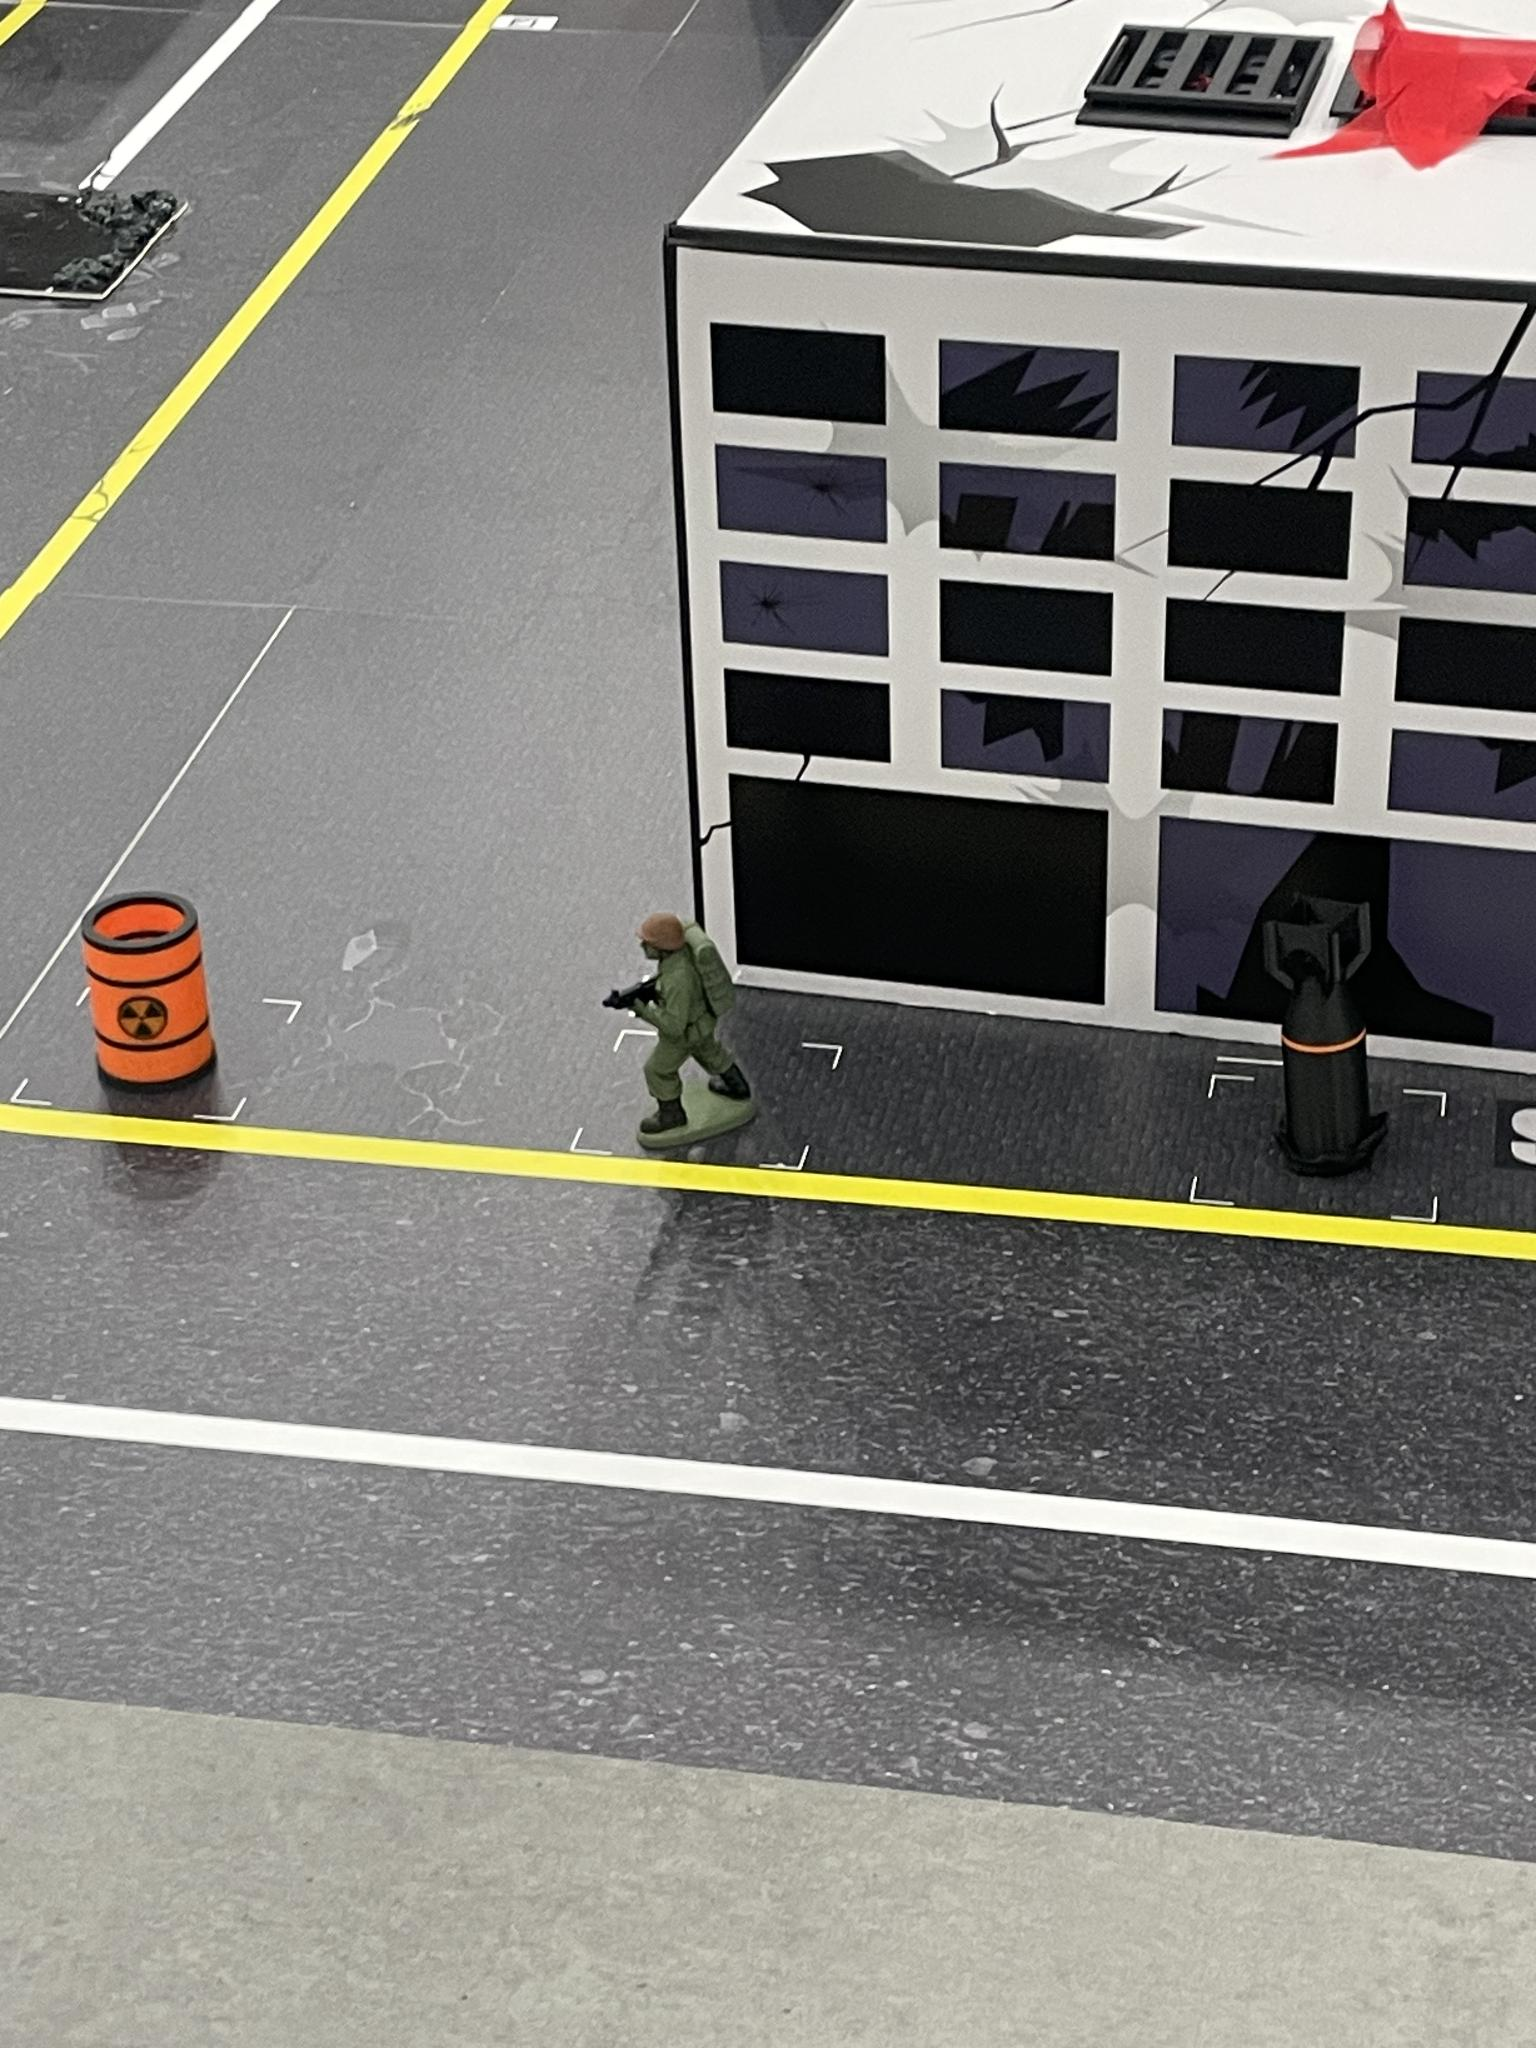Enemy: (602, 909, 757, 1158)
Hazmat: (84, 889, 221, 1084)
Missile: (1272, 894, 1399, 1176)
